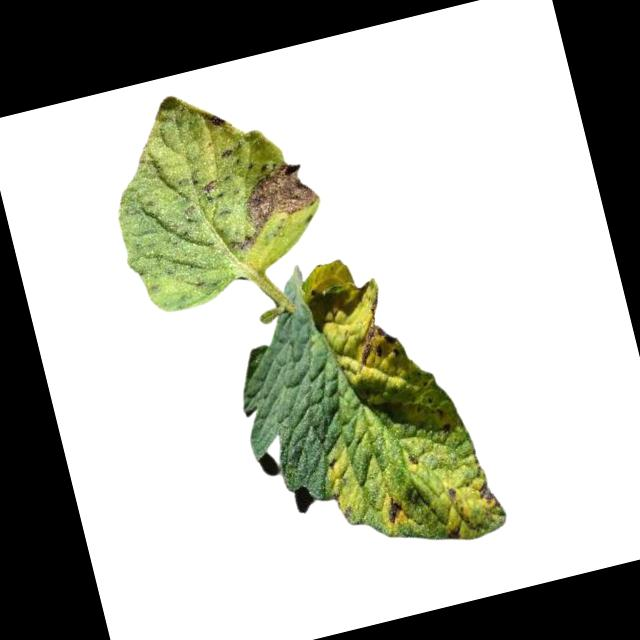Early_blight: (217, 154, 328, 254), (348, 296, 409, 369), (381, 496, 409, 529), (201, 105, 228, 130), (475, 482, 499, 508), (203, 175, 221, 196)
